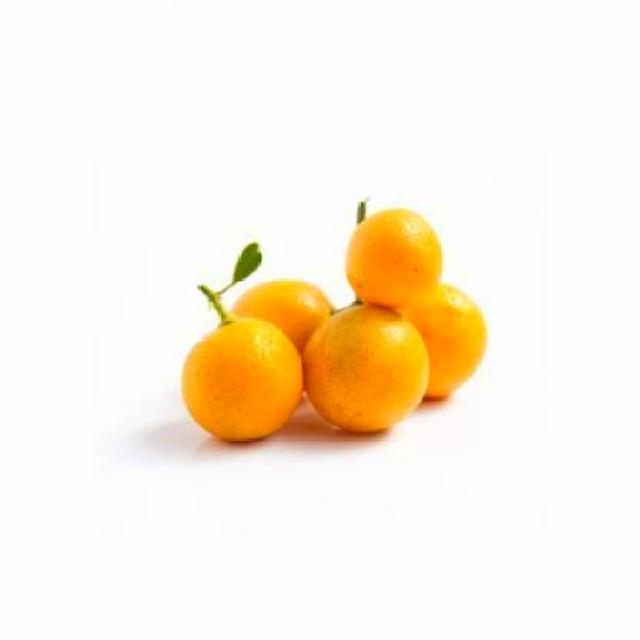Jeruk Sudah Matang: (298, 298, 432, 433), (180, 315, 302, 440), (374, 283, 492, 402), (224, 274, 338, 394), (344, 206, 442, 306)
